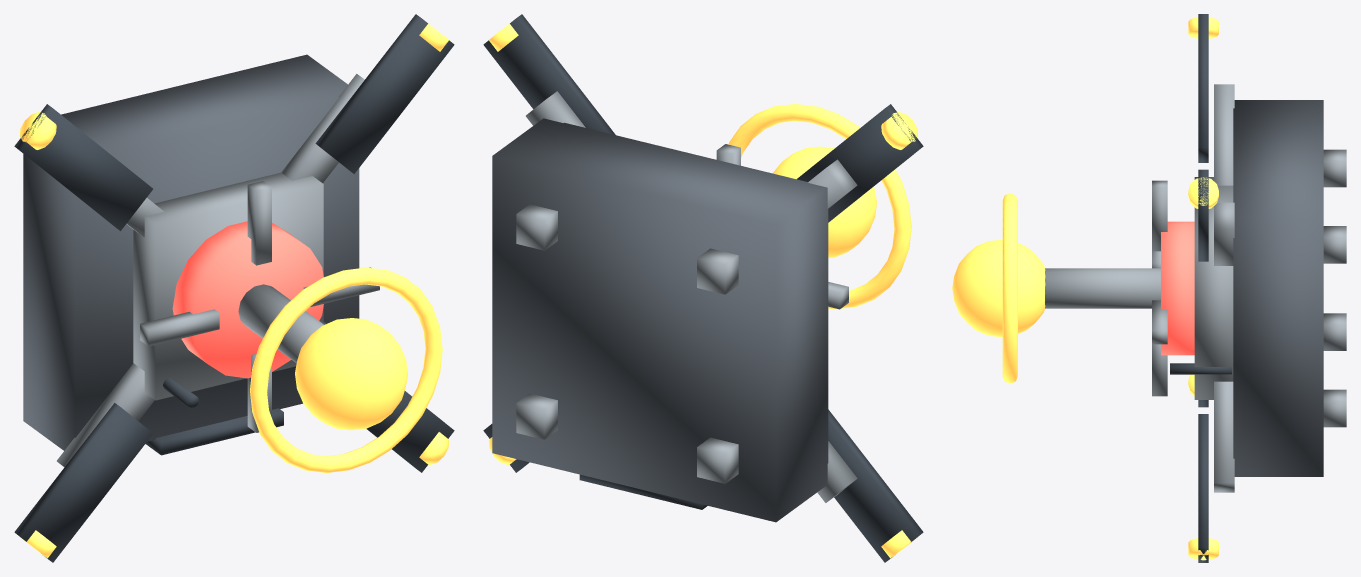
Rendered from distress_beacon.gltf.
The picture shows the model from 3 angles, left to right: view 1: azimuth 30°, elevation 25°; view 2: azimuth 150°, elevation 25°; view 3: azimuth 270°, elevation 25°; orthographic projection. The views are drawn at different scales.
Visible parts, largest first — view 1: Base_Block, Upper_Block, Beacon_Collar, Beacon_Halo, Beacon_Light, Fin_0, Fin_2, Fin_1, Beacon_Mast, Spar_0, Spar_2, Fin_3 (+8 smaller); view 2: Base_Block, Beacon_Halo, Fin_2, Fin_0, Fin_1, Beacon_Light, Foot_1, Foot_2, Foot_0, Foot_3, Spar_1, Spar_2 (+3 smaller); view 3: Base_Block, Beacon_Light, Upper_Block, Beacon_Mast, Beacon_Collar, Beacon_Halo, Spar_3, Spar_1, Fin_1, Fin_3, Spar_0, Fin_0 (+10 smaller).
Boxes of the visible parts, bbox=[...] form: Base_Block: bbox=[23, 54, 359, 450]; Upper_Block: bbox=[133, 172, 323, 400]; Beacon_Collar: bbox=[172, 221, 323, 378]; Beacon_Halo: bbox=[250, 267, 442, 472]; Beacon_Light: bbox=[295, 318, 407, 430]; Fin_0: bbox=[315, 14, 454, 173]; Fin_2: bbox=[14, 403, 153, 562]; Fin_1: bbox=[14, 104, 152, 230]; Beacon_Mast: bbox=[238, 284, 323, 362]; Spar_0: bbox=[281, 74, 364, 183]; Spar_2: bbox=[57, 363, 154, 467]; Fin_3: bbox=[366, 391, 454, 472]; Base_Block: bbox=[492, 118, 828, 522]; Beacon_Halo: bbox=[728, 104, 911, 309]; Fin_2: bbox=[828, 409, 923, 562]; Fin_0: bbox=[483, 14, 615, 134]; Fin_1: bbox=[797, 104, 923, 222]; Beacon_Light: bbox=[772, 146, 876, 258]; Foot_1: bbox=[516, 393, 557, 439]; Foot_2: bbox=[697, 248, 738, 294]; Foot_0: bbox=[697, 437, 738, 483]; Foot_3: bbox=[516, 204, 557, 250]; Spar_1: bbox=[808, 159, 857, 208]; Spar_2: bbox=[817, 441, 857, 502]; Base_Block: bbox=[1233, 100, 1323, 476]; Beacon_Light: bbox=[952, 240, 1045, 336]; Upper_Block: bbox=[1194, 177, 1233, 399]; Beacon_Mast: bbox=[1045, 268, 1160, 308]; Beacon_Collar: bbox=[1161, 221, 1194, 355]; Beacon_Halo: bbox=[1002, 193, 1017, 383]; Spar_3: bbox=[1214, 381, 1234, 492]; Spar_1: bbox=[1214, 84, 1234, 185]; Fin_1: bbox=[1198, 14, 1208, 162]; Fin_3: bbox=[1198, 414, 1208, 562]; Spar_0: bbox=[1214, 202, 1234, 265]; Fin_0: bbox=[1198, 169, 1208, 261].
Bounding box in the file's own units: 3.37 × 3.37 × 3.06.
